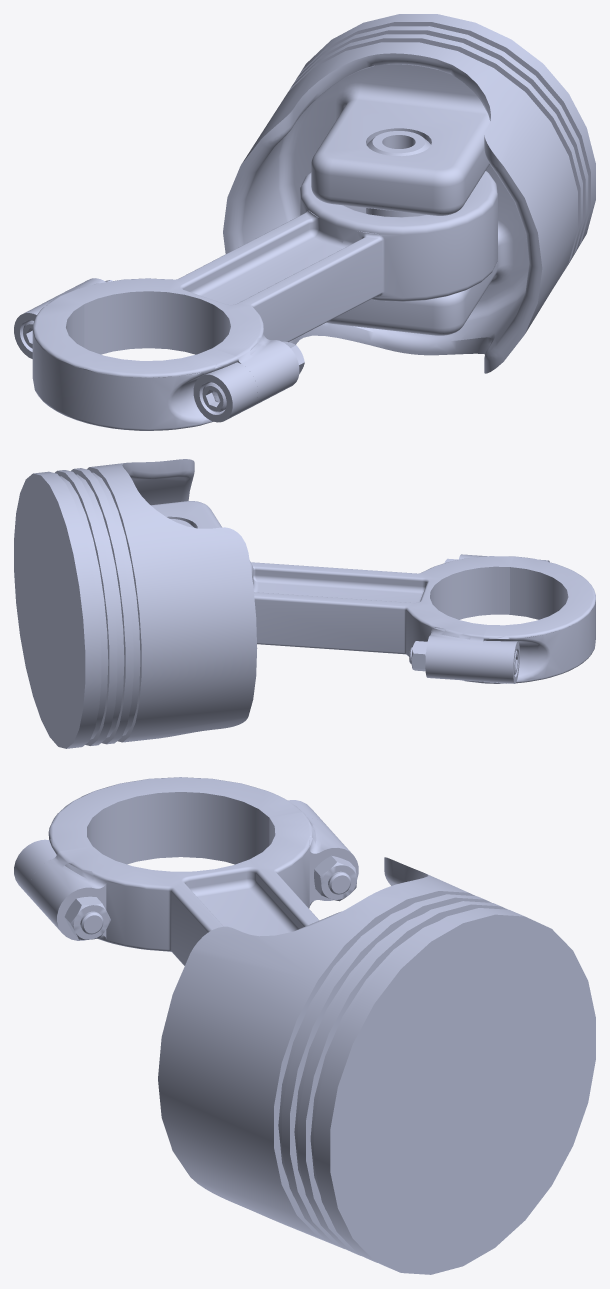
File: ass_pist_f.003.fbx
The picture shows the model from 3 angles, top to bottom: view 1: azimuth 30°, elevation 25°; view 2: azimuth 150°, elevation 25°; view 3: azimuth 270°, elevation 25°; orthographic projection. The views are drawn at different scales.
Parts seen in each view (by area): view 1: ME_A4.001; view 2: ME_A4.001; view 3: ME_A4.001.
Boxes of the visible parts, box(x1,y1,x2,y2) form: ME_A4.001: box(14, 14, 595, 430); ME_A4.001: box(14, 459, 595, 748); ME_A4.001: box(14, 777, 595, 1274).
Bounding box in the file's own units: 27.18 × 12.7 × 19.52.
